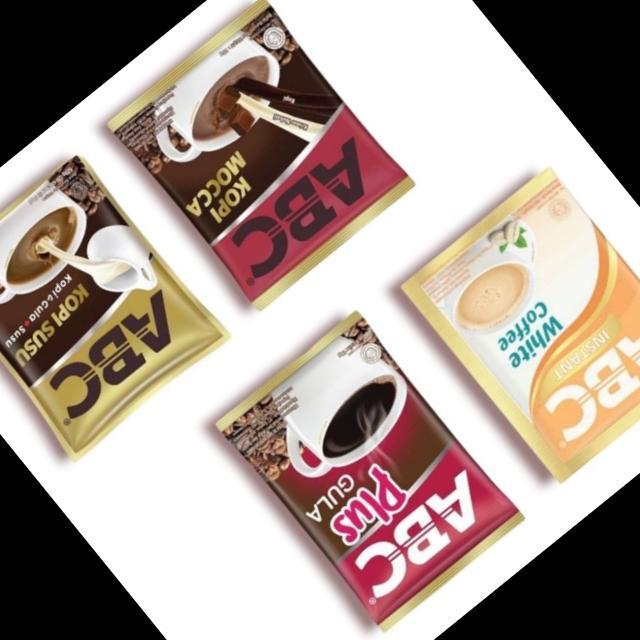KemasanPlastik: (204, 300, 530, 640), (95, 0, 426, 320), (0, 136, 244, 478), (391, 158, 640, 493)
